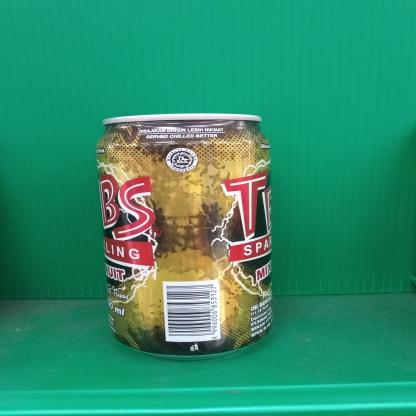bottle: (92, 108, 276, 357)
